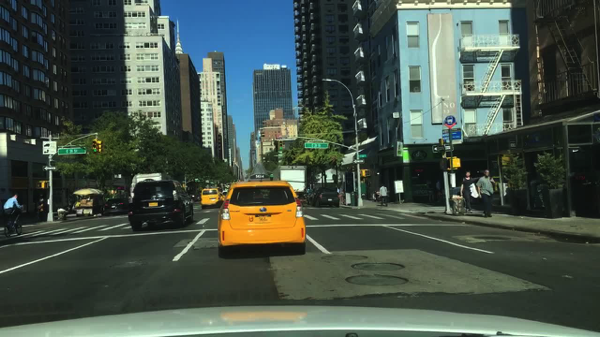bike: (3, 205, 26, 236), (34, 211, 49, 222)
bus: (129, 171, 173, 203)
car: (216, 162, 306, 257), (128, 179, 194, 232), (200, 189, 229, 209), (310, 188, 340, 207), (102, 198, 130, 217), (304, 189, 313, 204)
motor: (182, 181, 187, 188)
person: (476, 169, 495, 218), (458, 169, 477, 214), (377, 183, 388, 207)
rider: (3, 193, 24, 227), (38, 201, 45, 217)
traffic light: (448, 158, 461, 168), (91, 139, 98, 155), (36, 180, 47, 190), (360, 168, 371, 177), (98, 140, 103, 154), (43, 180, 51, 188), (278, 139, 283, 150)
traffic sign: (440, 128, 464, 144), (431, 142, 454, 152), (42, 141, 58, 155), (58, 148, 87, 155), (392, 180, 404, 194), (444, 115, 457, 127), (304, 142, 328, 148), (42, 165, 56, 171), (352, 158, 365, 164), (507, 141, 516, 148), (355, 153, 365, 158)
truck: (272, 165, 305, 204)
